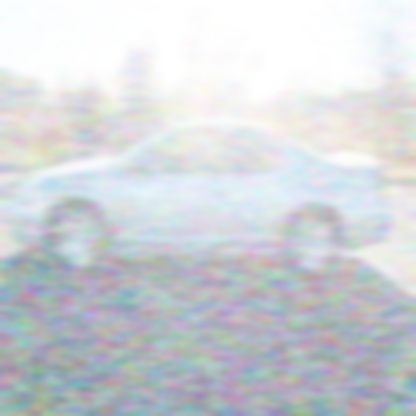Vehicle: (4, 111, 397, 281)
